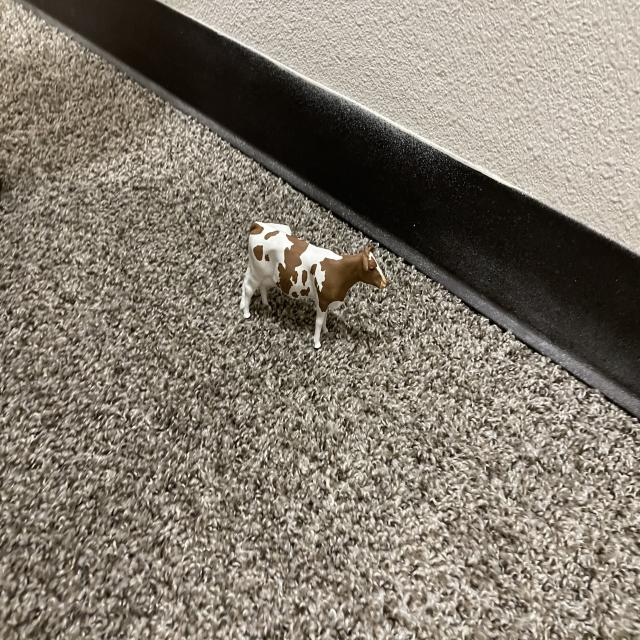cow: (225, 217, 394, 362)
